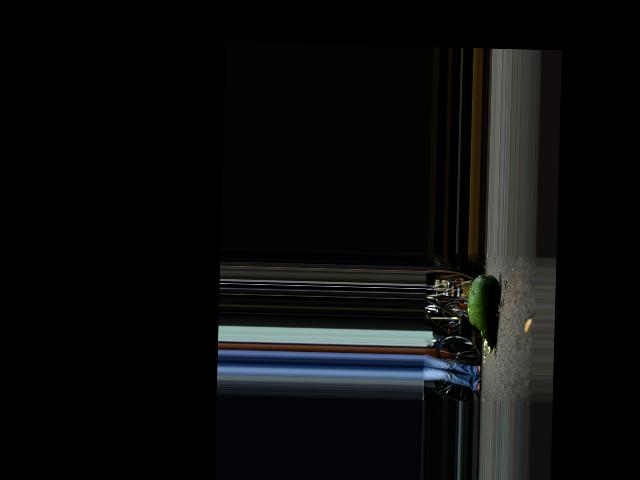cucumber: (466, 274, 499, 355)
